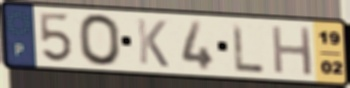4: (179, 18, 216, 73)
5: (37, 11, 74, 64)
H: (269, 24, 315, 78)
K: (135, 17, 171, 70)
L: (230, 21, 267, 74)
O: (76, 12, 125, 68)
